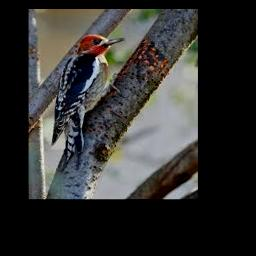Woodpecker: (52, 34, 125, 171)
